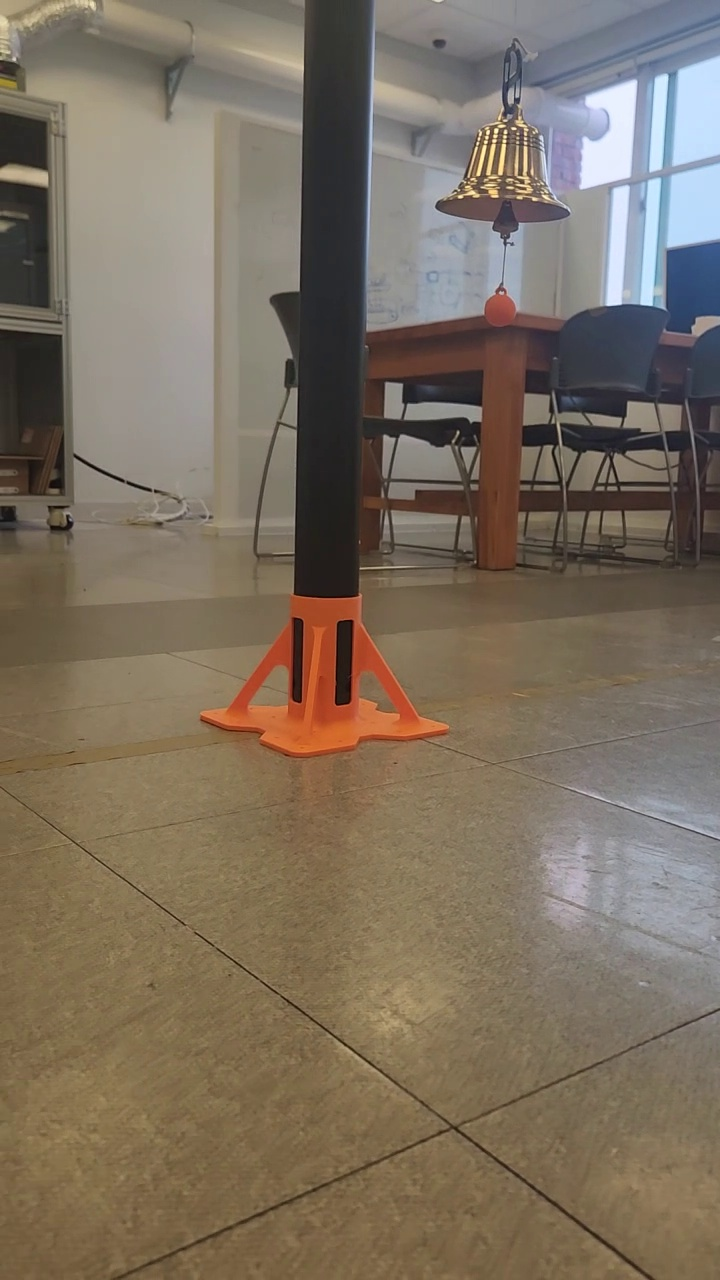bell: (433, 110, 575, 232)
pole: (292, 2, 374, 596)
